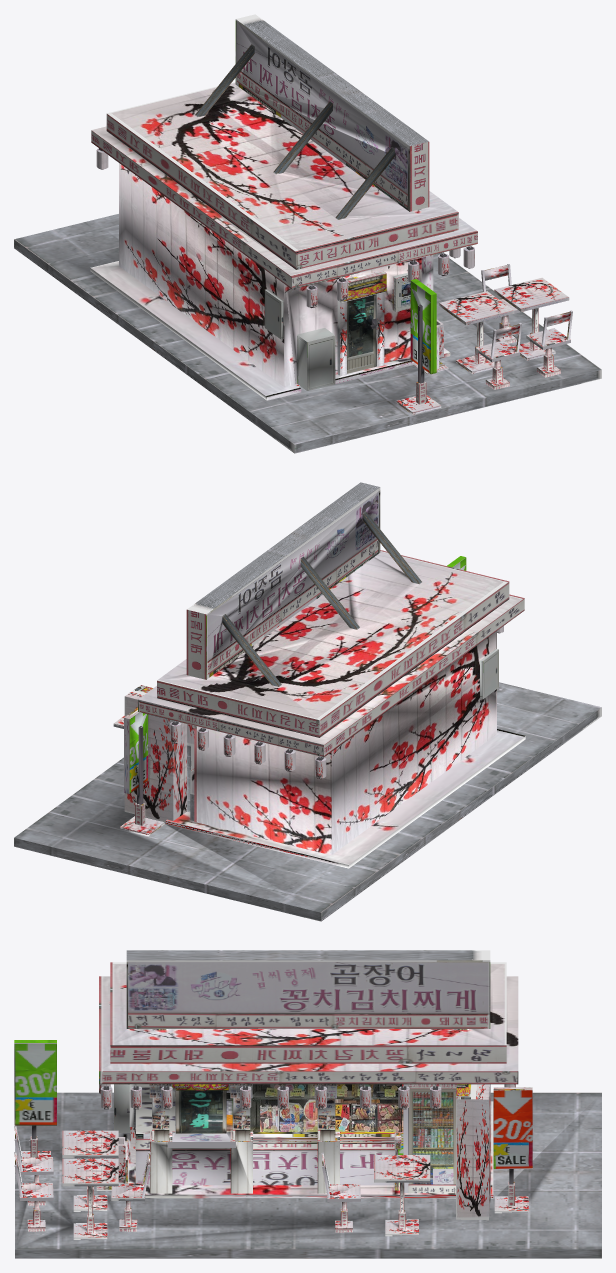
Rendered from Shop_1.fbx.
3 renders of one model, top to bottom at view 1: azimuth 30°, elevation 25°; view 2: azimuth 150°, elevation 25°; view 3: azimuth 270°, elevation 25°, orthographic. The views are drawn at different scales.
Parts seen in each view (by area): view 1: Cube; view 2: Cube; view 3: Cube.
Boxes of the visible parts, <box> form: Cube: <box>14,14,601,453</box>; Cube: <box>14,482,601,921</box>; Cube: <box>14,950,601,1258</box>.
Bounding box in the file's own units: 449 × 317 × 711.
1 material, 1 textured.
